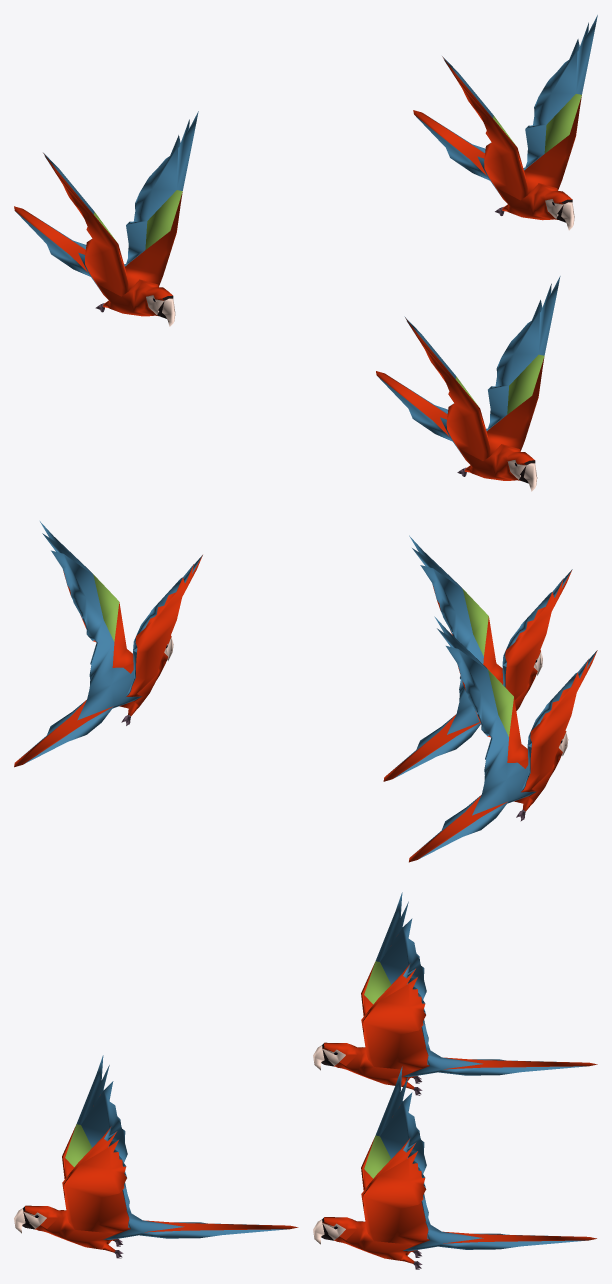
File: Parrots.fbx
3 views of the same model, one above another, from view 1: azimuth 30°, elevation 25°; view 2: azimuth 150°, elevation 25°; view 3: azimuth 270°, elevation 25° (orthographic). The views are drawn at different scales.
Parts seen in each view (by area): view 1: Mesh_0.001, Mesh_0, Mesh_0.002; view 2: Mesh_0.001, Mesh_0.002, Mesh_0; view 3: Mesh_0.001, Mesh_0, Mesh_0.002.
Part boxes in pixels (x1,y1,x2,y2): Mesh_0.001: [413, 15, 597, 230]; Mesh_0: [376, 276, 560, 491]; Mesh_0.002: [14, 111, 198, 326]; Mesh_0.001: [14, 521, 202, 767]; Mesh_0.002: [409, 616, 597, 862]; Mesh_0: [383, 535, 572, 781]; Mesh_0.001: [313, 1066, 596, 1269]; Mesh_0: [14, 1055, 298, 1258]; Mesh_0.002: [313, 892, 597, 1095].
Bounding box in the file's own units: 640 × 297 × 650.
